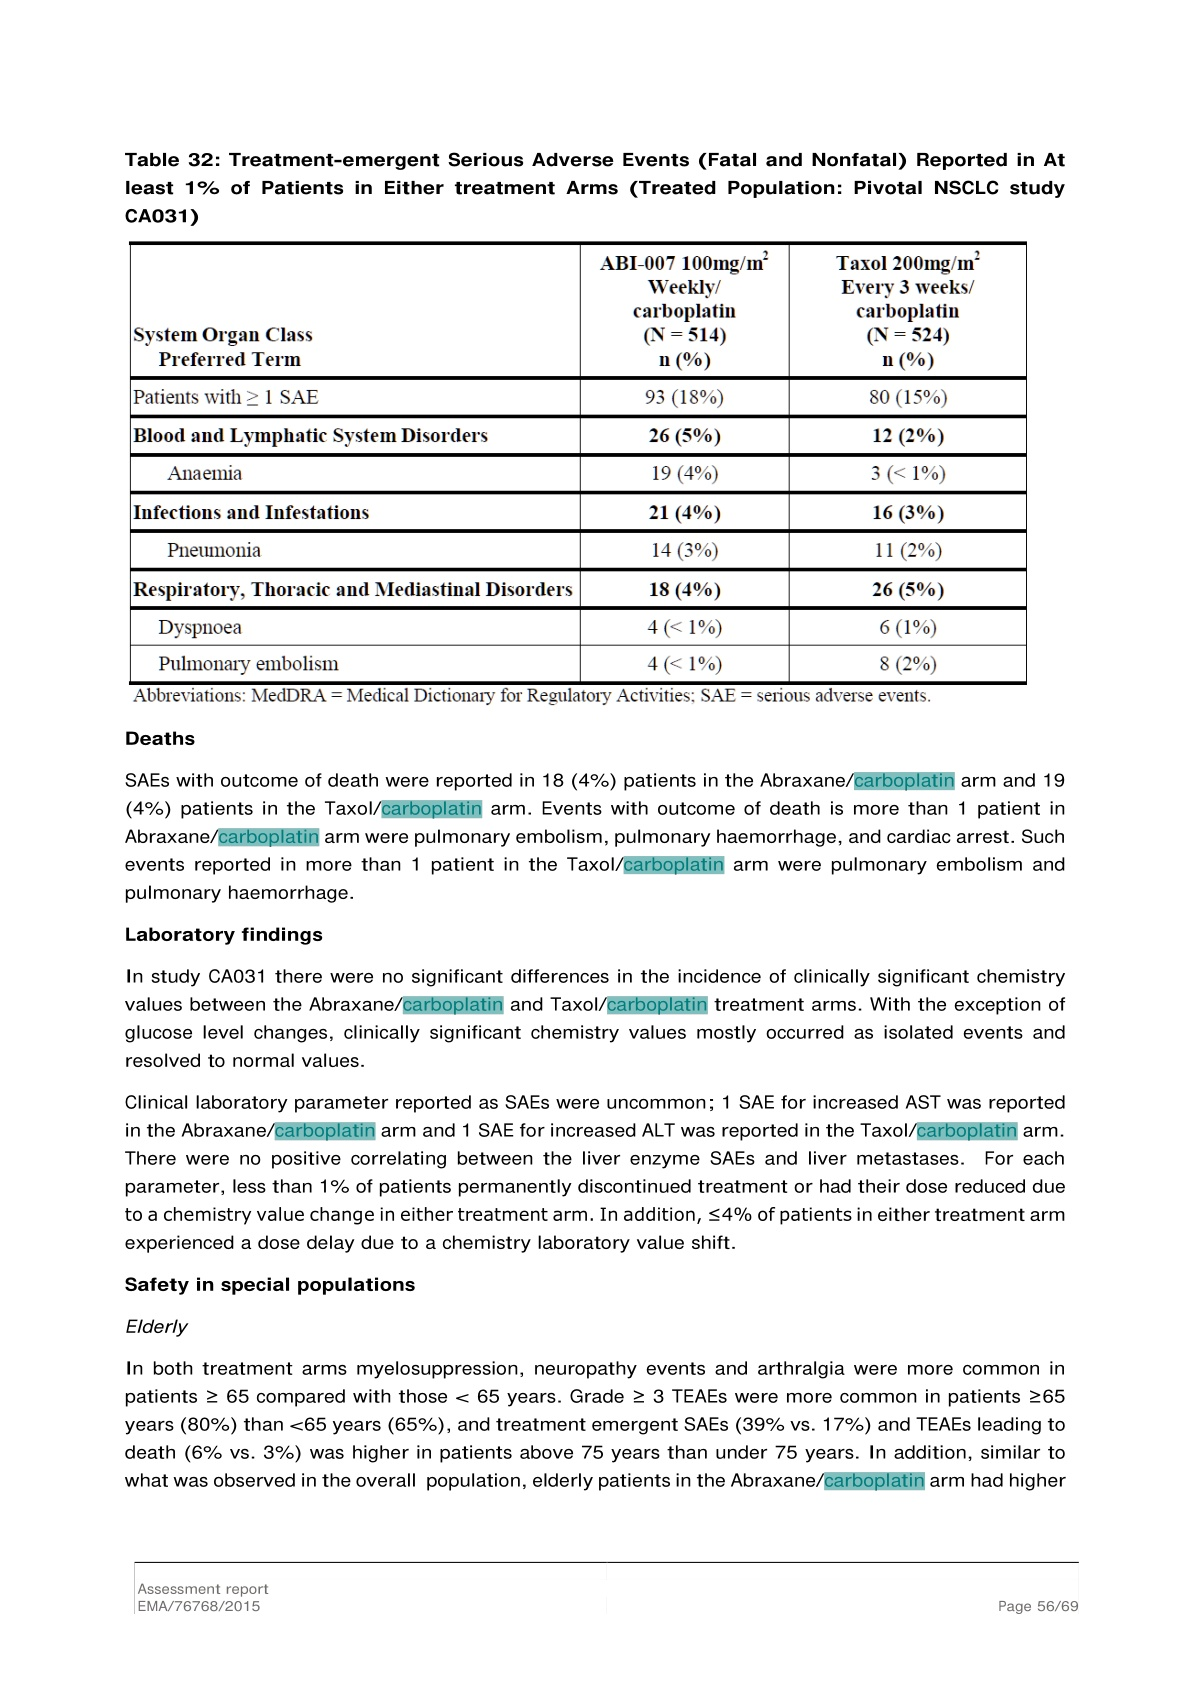full_lined: (129, 241, 1028, 685)
